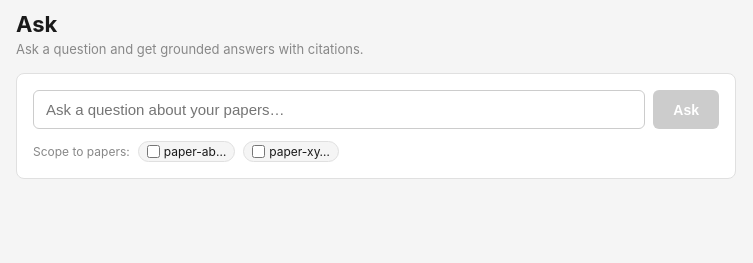
Test: Ask screen › shows error state on API failure
Type "fail question" into the field with test id "ask-input" at (339, 110), box [33,90,645,129]
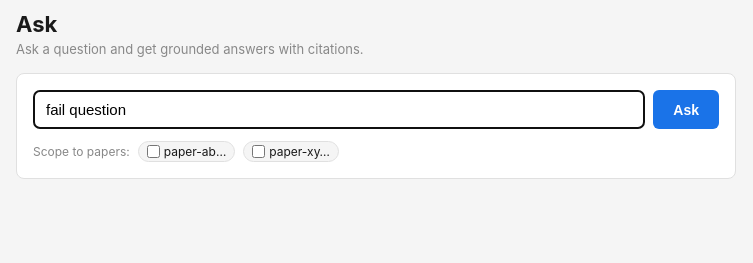
Click the button with test id "ask-submit" at (686, 110), box [653,90,719,129]
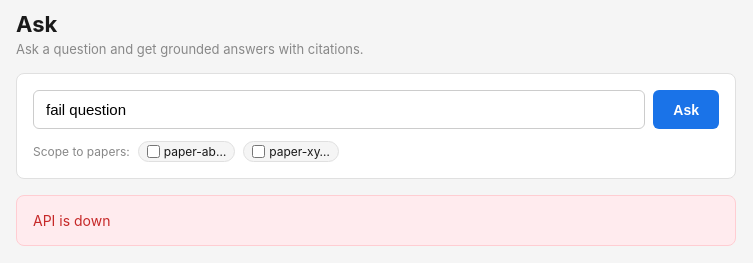
Expected: the text with test id "ask-error" reads "API is down", [33,212,110,229]
